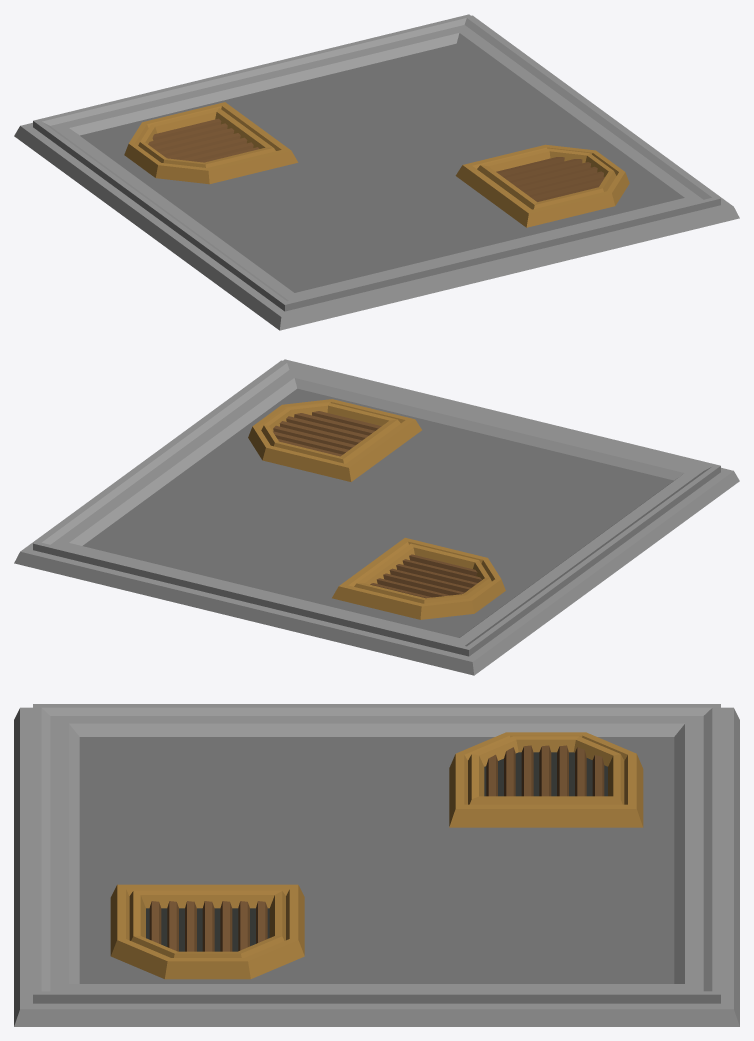
File: quaternius-modular-sci-fi-roof-tile-small-vents.glb
3 views of the same model, one above another, from view 1: azimuth 30°, elevation 25°; view 2: azimuth 150°, elevation 25°; view 3: azimuth 270°, elevation 25° (orthographic). The views are drawn at different scales.
Parts seen in each view (by area): view 1: RoofTile_SmallVents; view 2: RoofTile_SmallVents; view 3: RoofTile_SmallVents.
Boxes of the visible parts, box(x1,y1,x2,y2) form: RoofTile_SmallVents: box(14, 14, 739, 330); RoofTile_SmallVents: box(14, 359, 739, 675); RoofTile_SmallVents: box(14, 704, 739, 1026).
Bounding box in the file's own units: 2 × 0.0906 × 2.
1 material, 1 textured.
